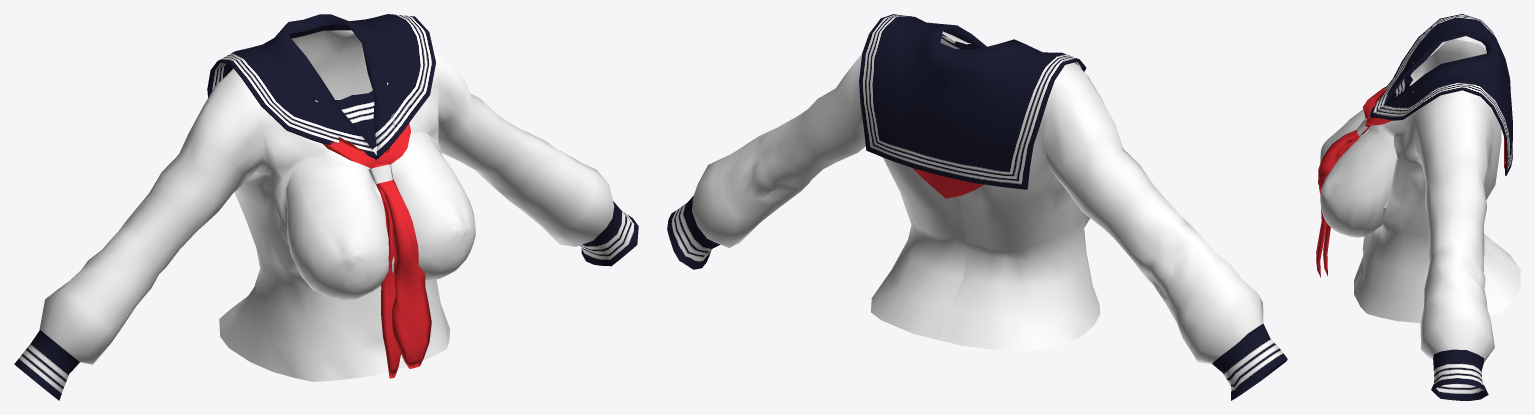
File: top1.fbx
3 renders of one model, left to right at view 1: azimuth 30°, elevation 25°; view 2: azimuth 150°, elevation 25°; view 3: azimuth 270°, elevation 25°, orthographic. The views are drawn at different scales.
Parts seen in each view (by area): view 1: カスタム少女_mesh; view 2: カスタム少女_mesh; view 3: カスタム少女_mesh.
Boxes of the visible parts, x1,y1,x2,y2 form: カスタム少女_mesh: (14,14,638,400); カスタム少女_mesh: (667,14,1287,400); カスタム少女_mesh: (1316,14,1520,400).
Size of the model in its own units: 86.48 by 40.33 by 30.16.
Materials: 3 (3 with a texture image).
